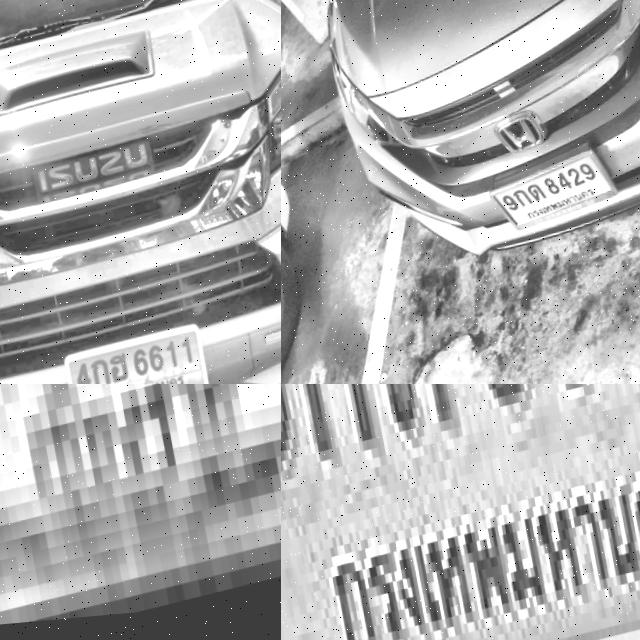license-plate: (281, 384, 640, 640), (0, 384, 281, 640), (482, 149, 617, 248), (58, 322, 213, 384)
